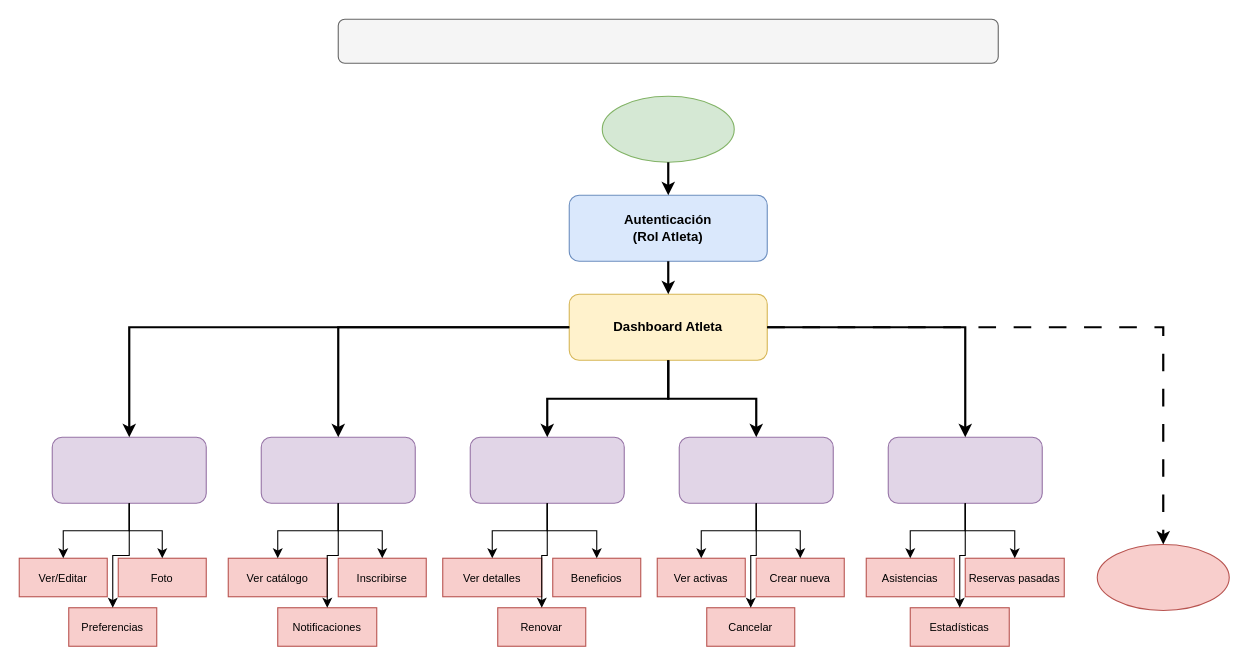
Image size: 1249x666. Some labels were removed from this diagram. Here are the shapes that lost their labels. From the top down, the box of each, then its label:
(337, 18, 998, 63): FLUJO ATLETA - PLATAFORMA GESTIÓN DEPORTIVA
(601, 95, 734, 162): Inicio
(51, 436, 206, 503): Mi Perfil y Datos
(260, 436, 415, 503): Entrenamientos Disponibles
(469, 436, 624, 503): Mis Planes Activos
(678, 436, 833, 503): Mis Reservas
(887, 436, 1042, 503): Historial y Progreso
(1096, 543, 1229, 610): Cerrar Sesión
